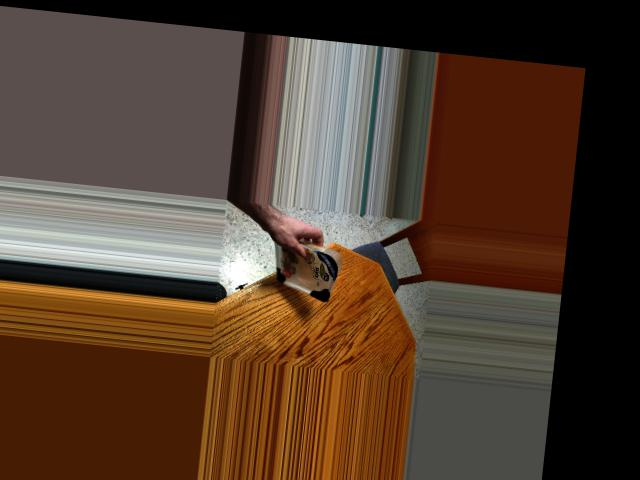cheese: (267, 239, 345, 297)
